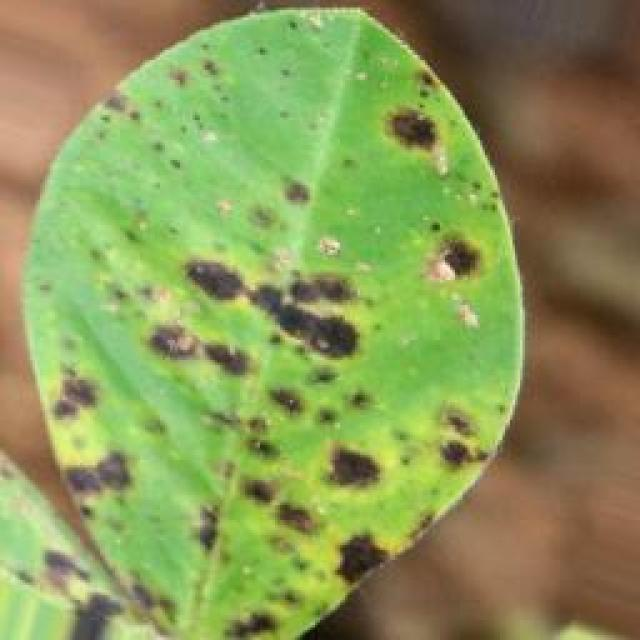Yellowish: (46, 32, 514, 600)
